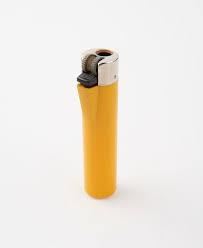lighter: (75, 47, 117, 200)
